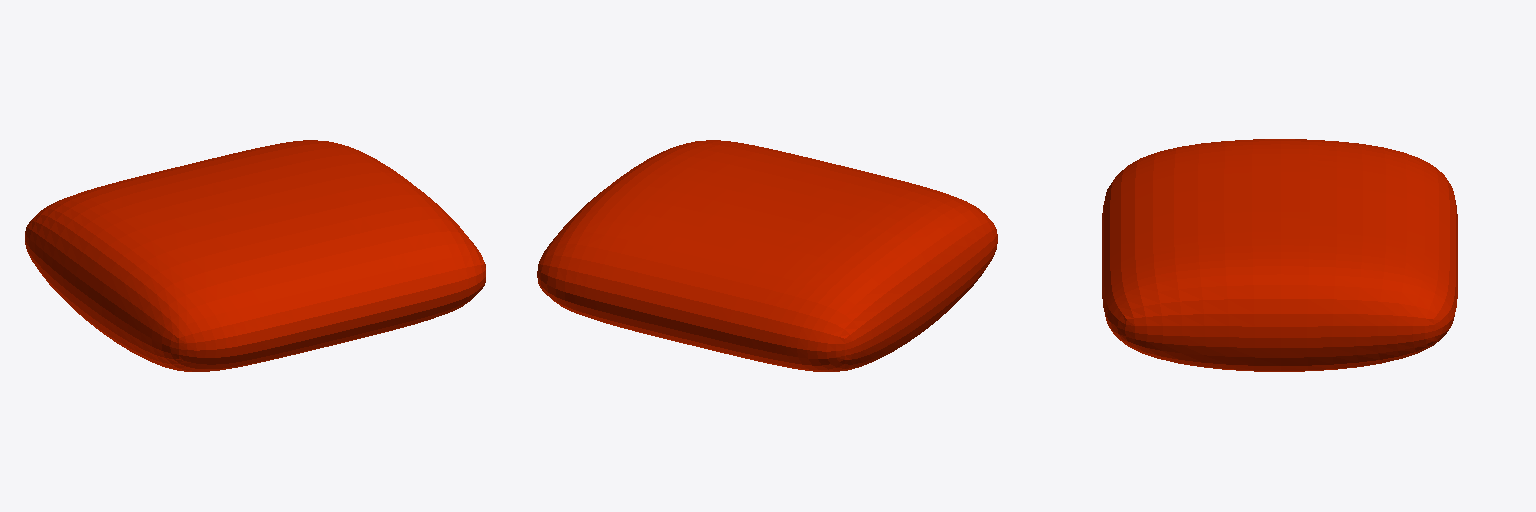
File: throwpillow.obj
3 views of the same model, side by side, from view 1: azimuth 30°, elevation 25°; view 2: azimuth 150°, elevation 25°; view 3: azimuth 270°, elevation 25° (orthographic).
Visible parts, largest first — view 1: Cube.001_Cube.016; view 2: Cube.001_Cube.016; view 3: Cube.001_Cube.016.
Boxes of the visible parts, <box> form: Cube.001_Cube.016: <box>25,140,485,371</box>; Cube.001_Cube.016: <box>537,140,997,371</box>; Cube.001_Cube.016: <box>1102,139,1457,371</box>.
Bounding box in the file's own units: 1.77 × 0.5777 × 1.63.